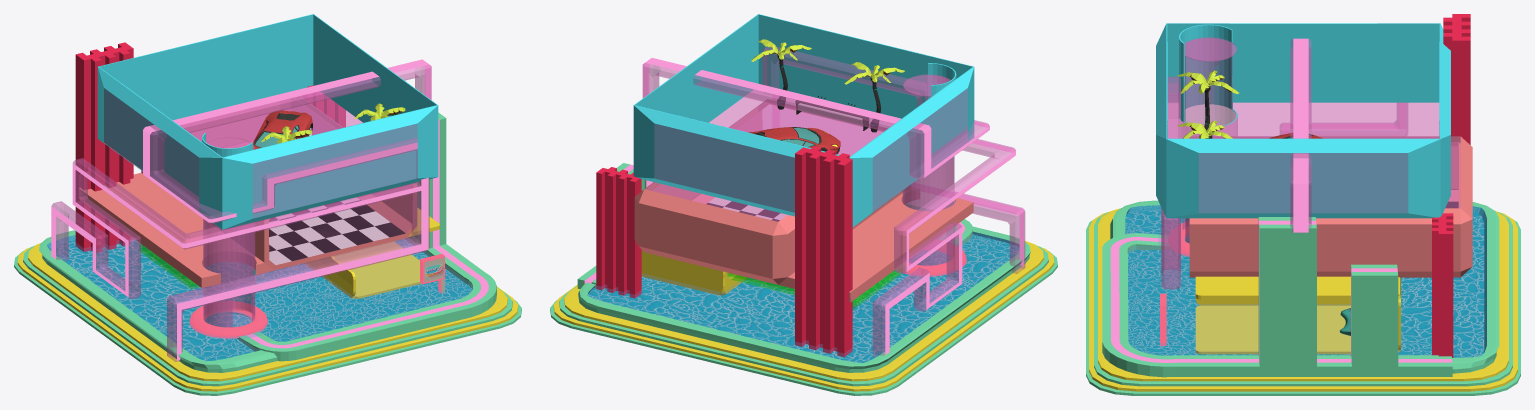
File: ultimate_party_main.glb
The picture shows the model from 3 angles, left to right: view 1: azimuth 30°, elevation 25°; view 2: azimuth 150°, elevation 25°; view 3: azimuth 270°, elevation 25°; orthographic projection. The views are drawn at different scales.
Visible parts, largest first — view 1: laberinto, tube_2, piso_3, room_2, tube_1, wall_1, tubo, piso_2, room_1, piso_4, piso_5, piso_1 (+5 smaller); view 2: laberinto, piso_3, room_2, tube_2, wall_1, wall_2, piso_2, piso_4, tubo, piso_5, piso_1, room_1 (+7 smaller); view 3: laberinto, tube_1, piso_3, room_2, tube_2, room_1, piso_2, piso_4, tubo, piso_5, piso_1, wall_2 (+4 smaller).
Boxes of the visible parts, x1,y1,x2,y2 form: laberinto: [97, 14, 438, 229]; tube_2: [51, 59, 431, 361]; piso_3: [39, 230, 472, 372]; room_2: [79, 96, 416, 287]; tube_1: [237, 112, 496, 361]; wall_1: [75, 42, 133, 252]; tubo: [203, 137, 255, 327]; piso_2: [28, 243, 507, 381]; room_1: [304, 208, 439, 298]; piso_4: [17, 247, 518, 391]; piso_5: [23, 245, 512, 386]; piso_1: [14, 251, 521, 395]; laberinto: [633, 14, 974, 227]; piso_3: [578, 226, 1030, 372]; room_2: [634, 99, 973, 302]; tube_2: [642, 47, 1025, 357]; wall_1: [795, 146, 852, 357]; wall_2: [596, 167, 641, 298]; piso_2: [564, 241, 1043, 381]; piso_4: [553, 247, 1054, 391]; tubo: [902, 74, 954, 265]; piso_5: [559, 245, 1048, 386]; piso_1: [550, 251, 1057, 395]; room_1: [641, 250, 747, 295]; laberinto: [1156, 23, 1450, 218]; tube_1: [1102, 217, 1452, 377]; piso_3: [1110, 200, 1499, 373]; room_2: [1189, 136, 1472, 277]; tube_2: [1161, 38, 1407, 289]; room_1: [1195, 276, 1400, 354]; piso_2: [1098, 208, 1508, 381]; piso_4: [1089, 212, 1517, 391]; tubo: [1181, 37, 1237, 243]; piso_5: [1094, 212, 1512, 386]; piso_1: [1086, 220, 1520, 395]; wall_2: [1432, 213, 1453, 357].
Size of what is drawn, in the model's own units: 31 by 17.93 by 31.
18 materials, 12 textured.
